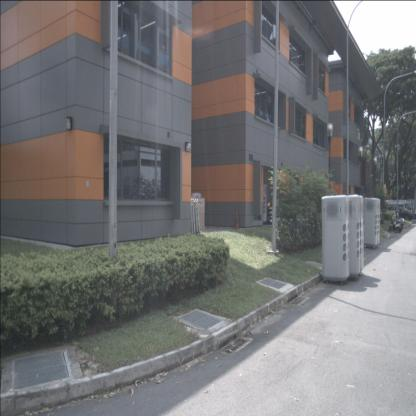movable_object-trafficcone: (233, 209, 240, 229)
vehicle-car: (386, 206, 413, 220)
vehicle-motorcycle: (389, 212, 404, 234)
vehicle-truck: (386, 202, 413, 220)
